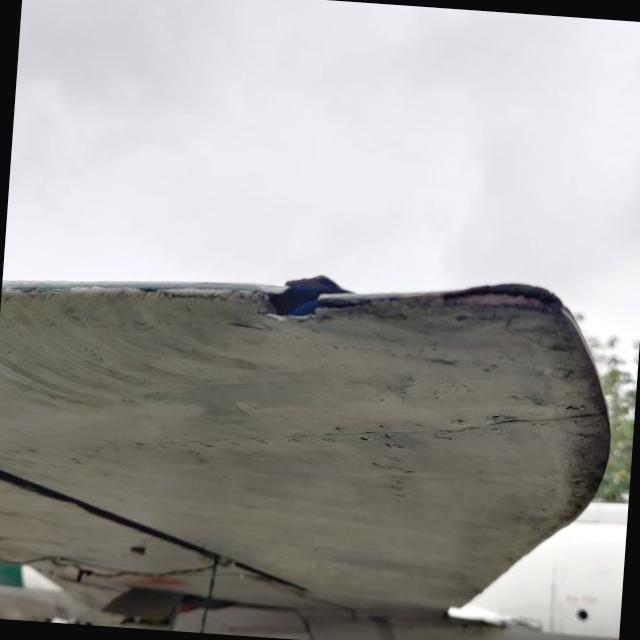crack: (240, 253, 369, 340)
